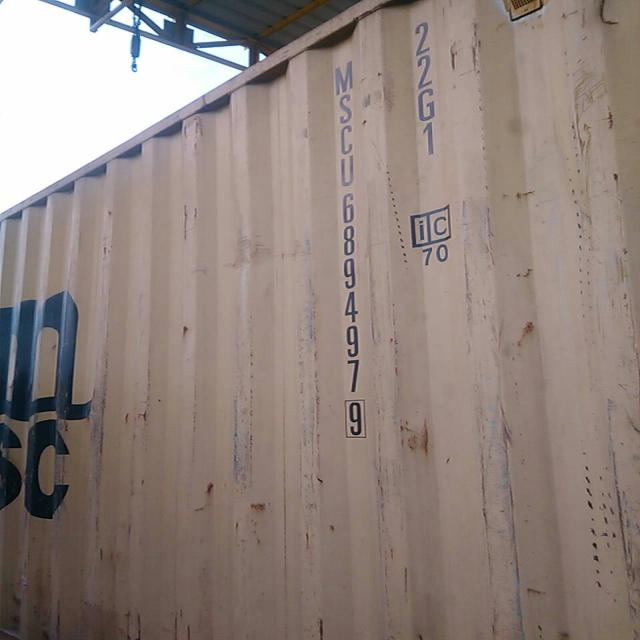rust: (390, 409, 438, 460), (510, 316, 541, 359), (193, 478, 222, 518), (508, 260, 544, 290), (8, 589, 27, 639), (123, 602, 146, 640), (503, 186, 540, 208), (306, 615, 338, 640), (168, 610, 194, 640), (250, 498, 274, 521), (53, 607, 66, 640), (180, 320, 194, 342)
